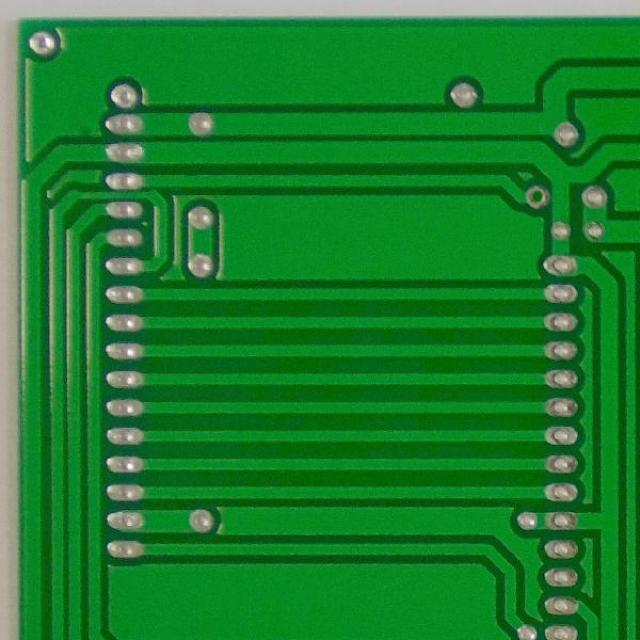missing_hole: (525, 185, 550, 211)
